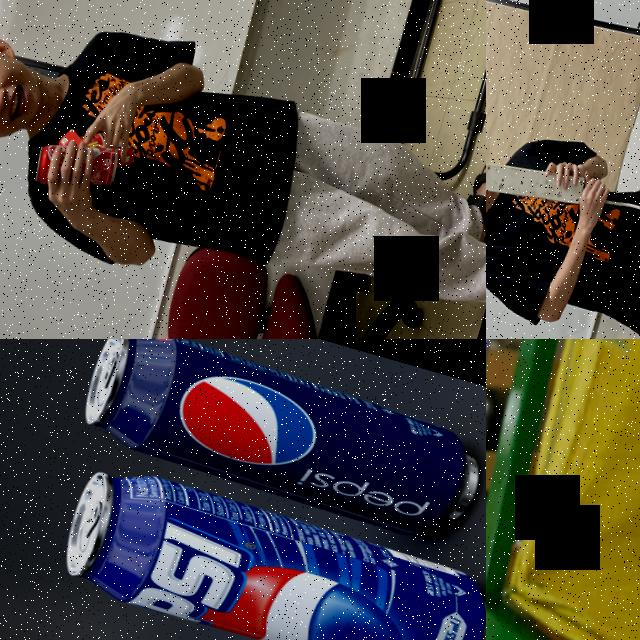can: (70, 339, 486, 544), (52, 451, 486, 640), (30, 125, 124, 202)
